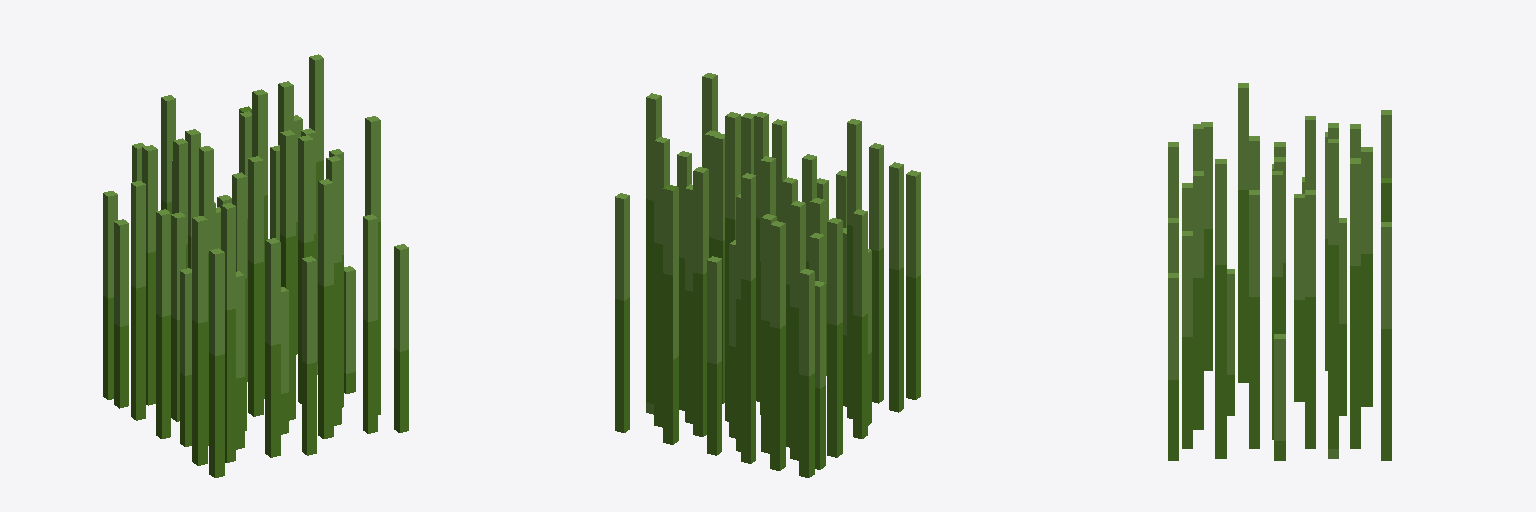
3 renders of one model, left to right at view 1: azimuth 30°, elevation 25°; view 2: azimuth 150°, elevation 25°; view 3: azimuth 270°, elevation 25°, orthographic.
Parts seen in each view (by area): view 1: cube; view 2: cube; view 3: cube.
Boxes of the visible parts, box(x1,y1,x2,y2) form: cube: box(103, 54, 408, 477); cube: box(615, 73, 920, 477); cube: box(1168, 83, 1391, 460).
Size of the model in its own units: 1 by 1.55 by 1.
1 materials, 1 textured.